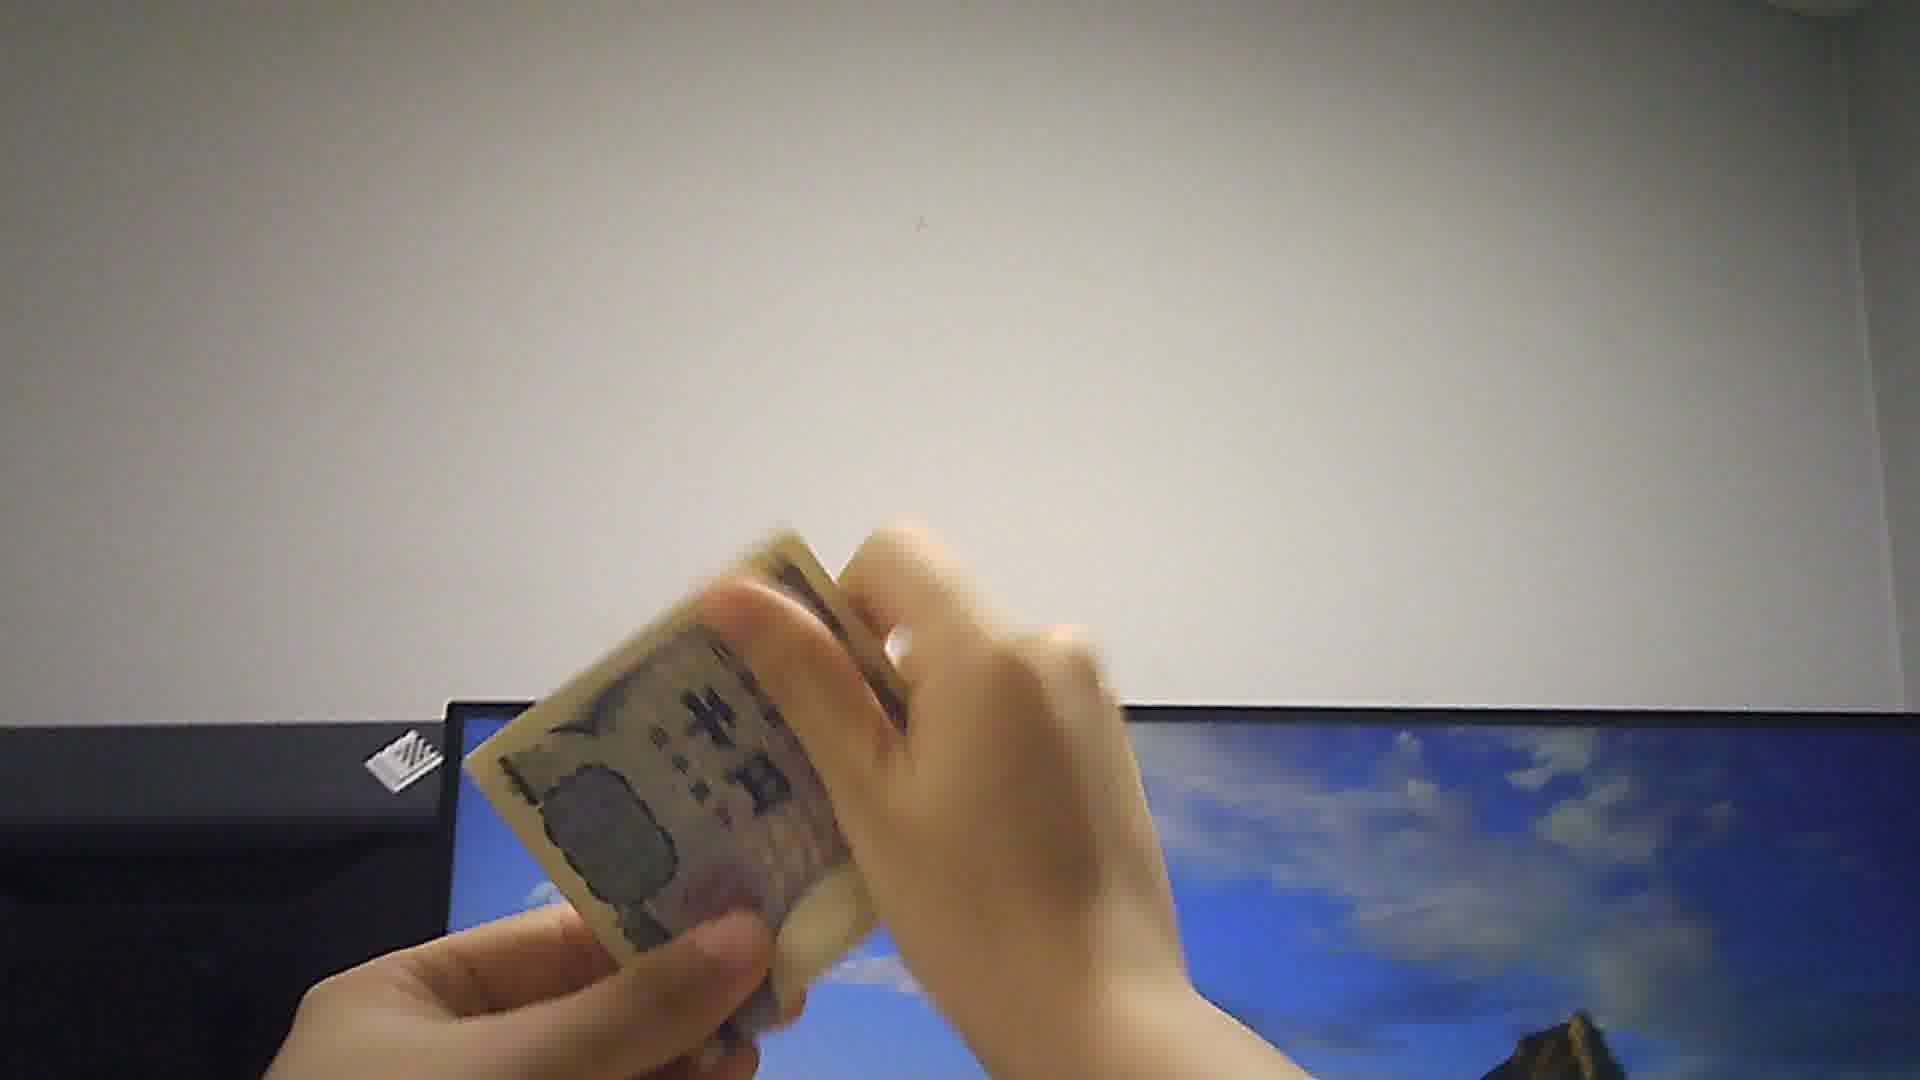1,000 Yen: (469, 527, 932, 1077)
